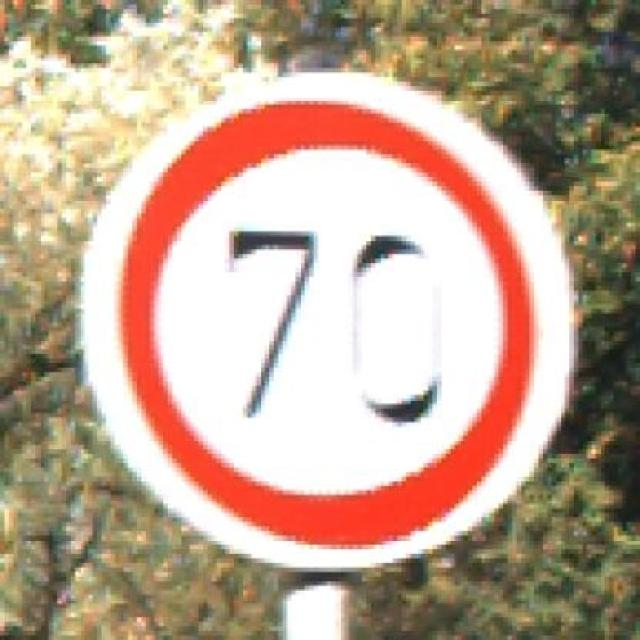forb_speed_over_70: (93, 80, 570, 569)
